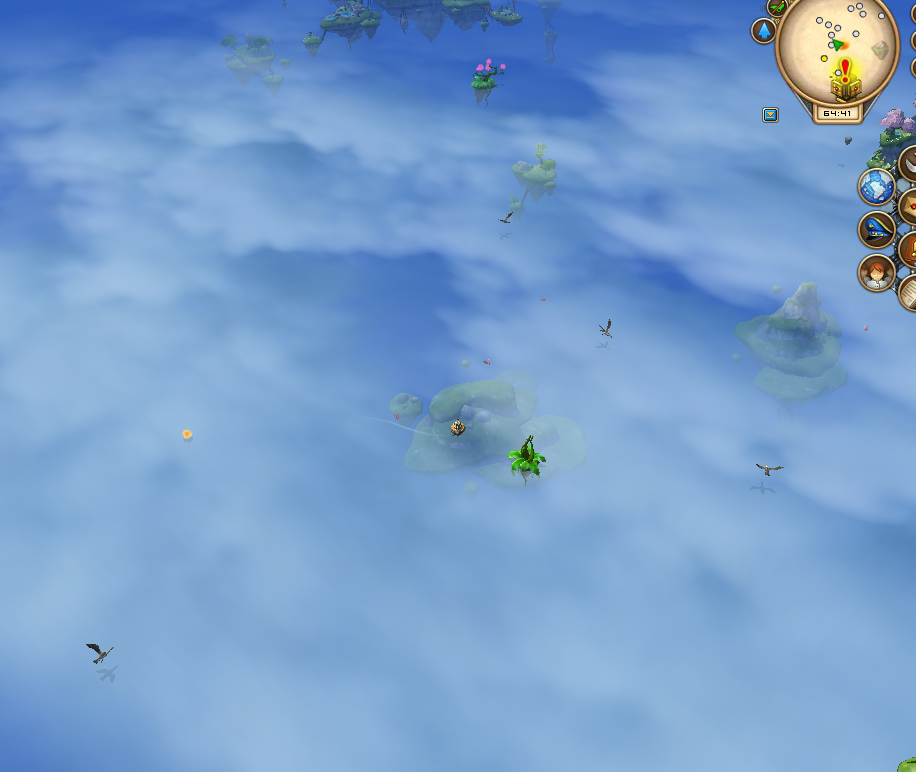dandelion-empty: (505, 429, 551, 483)
dandelion-full: (468, 55, 509, 105)
fluff: (177, 425, 196, 445)
